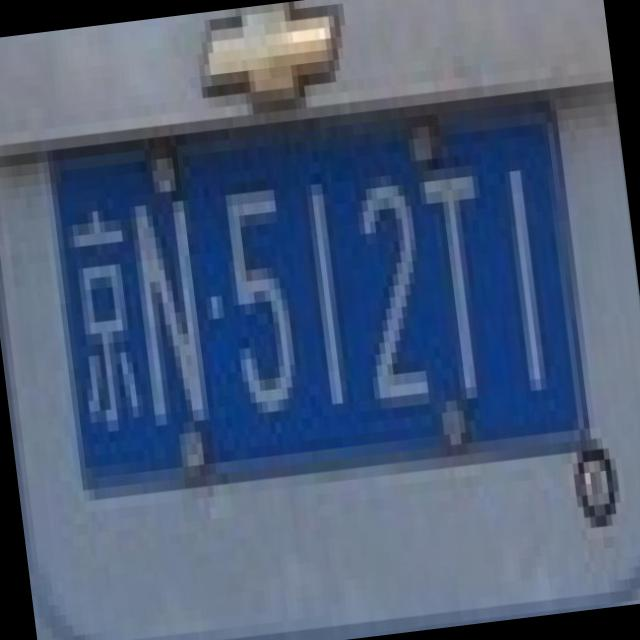LicensePlate: (19, 52, 612, 538)
